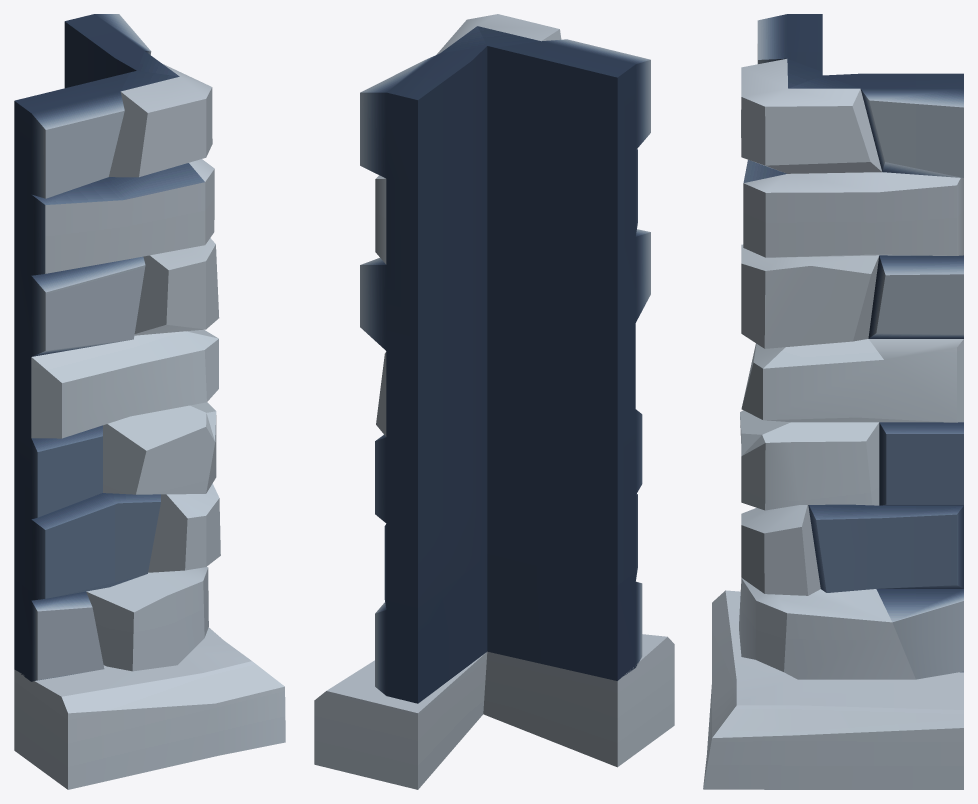
Rendered from Corner_2x2.fbx.
The picture shows the model from 3 angles, left to right: view 1: azimuth 30°, elevation 25°; view 2: azimuth 150°, elevation 25°; view 3: azimuth 270°, elevation 25°; orthographic projection. The views are drawn at different scales.
Parts seen in each view (by area): view 1: pCube4; view 2: pCube4; view 3: pCube4.
Boxes of the visible parts, x1,y1,x2,y2 form: pCube4: [14, 14, 285, 789]; pCube4: [314, 14, 674, 789]; pCube4: [703, 14, 963, 789].
Bounding box in the file's own units: 1.82 × 5.23 × 1.85.
